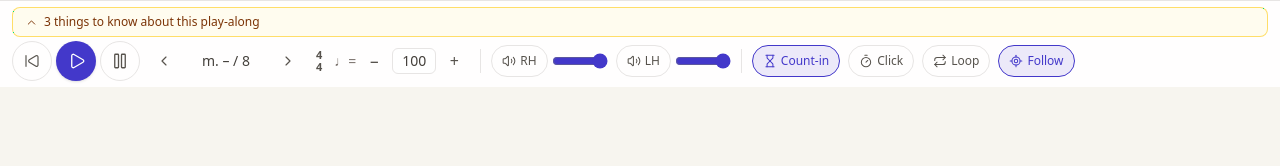
it: analysis warnings › ranks the most misleading warning first
Click the button "3 things to know about this play-along" at coordinates (152, 22), box [25,14,1255,30]
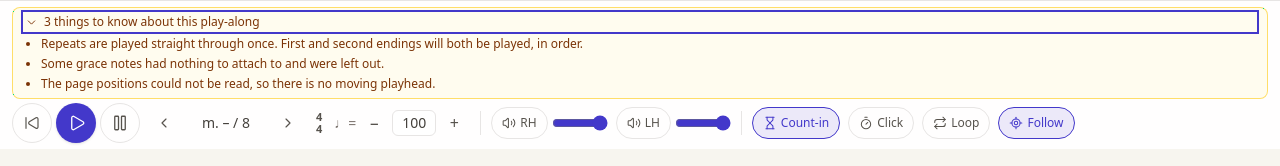
Check: the 1st list item shows "Repeats", box [41,35,583,52]
